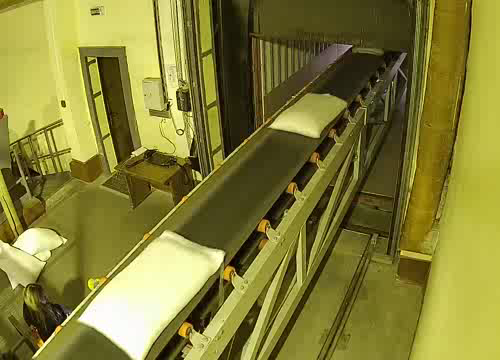bag: (69, 221, 239, 360), (264, 85, 351, 146), (345, 41, 389, 59)
